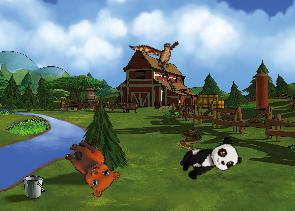bear: (54, 135, 125, 201)
eagle: (129, 27, 186, 78)
panda: (176, 134, 243, 185)
